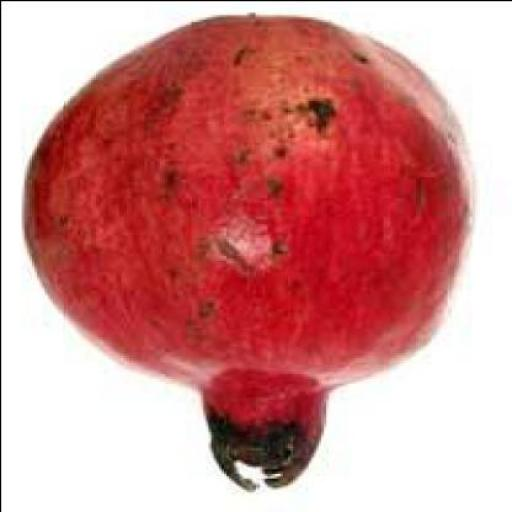biodegradable: (24, 16, 476, 494)
